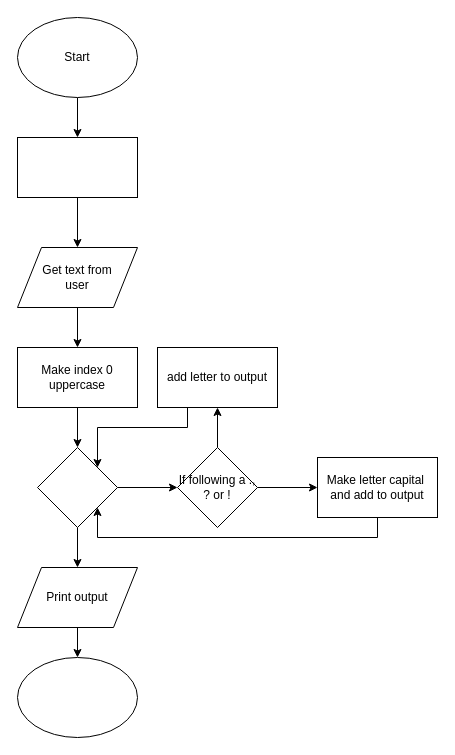
Some shapes in this 455 by 755 pixel diagram are drawn without their labels. Here are the shapes that lost their labels. From the top down, the box of each, then its label:
(16, 136, 138, 198): initialize variables
(36, 446, 118, 528): while i < len of input
(16, 656, 138, 738): End
